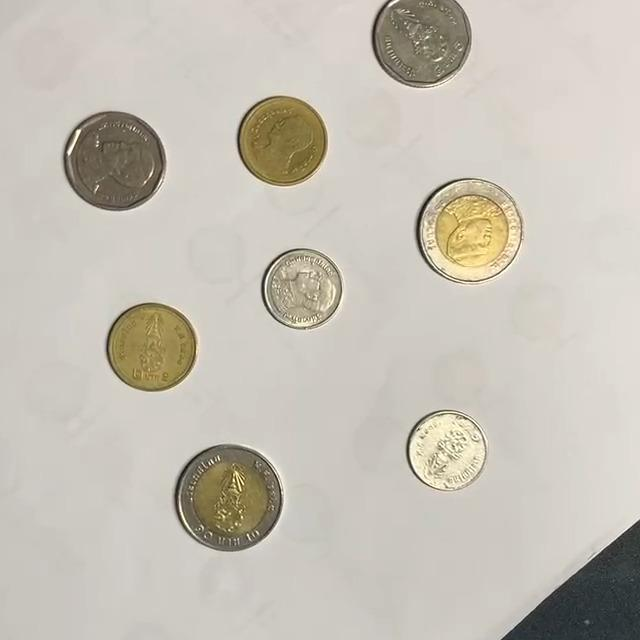1-baht: (406, 410, 492, 493), (262, 248, 345, 330)
10-baht: (175, 445, 285, 552), (420, 180, 525, 284)
2-baht: (106, 302, 199, 393), (238, 96, 329, 187)
5-baht: (65, 111, 168, 211), (372, 0, 475, 89)
